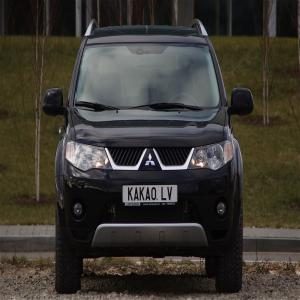Vehicle-registration-plate: (122, 185, 179, 208)
